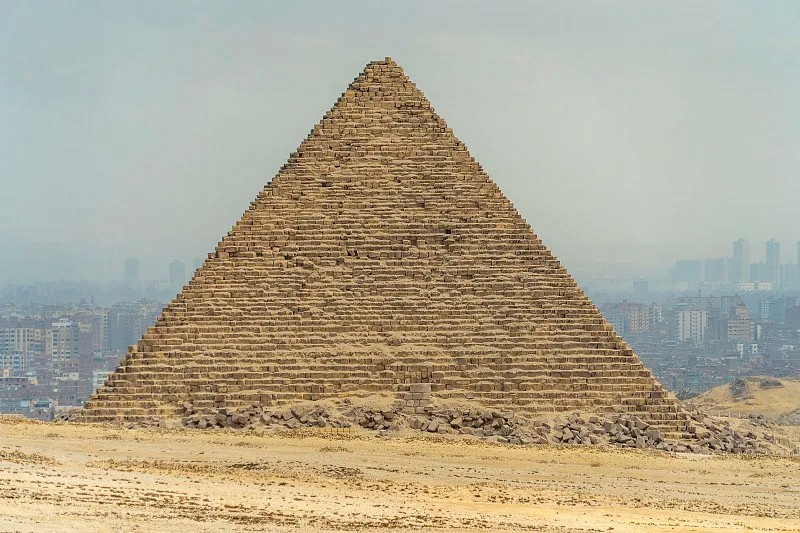Pyramid: (71, 59, 695, 439)
